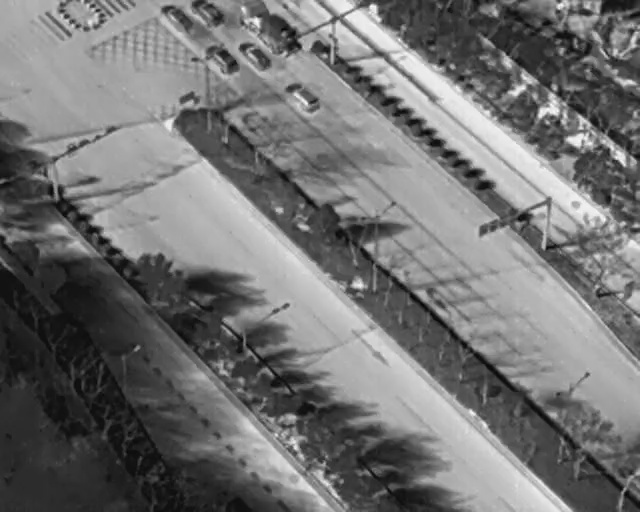Car: (159, 0, 196, 38), (202, 39, 239, 76), (237, 37, 274, 74), (286, 78, 323, 115), (191, 0, 223, 26)
